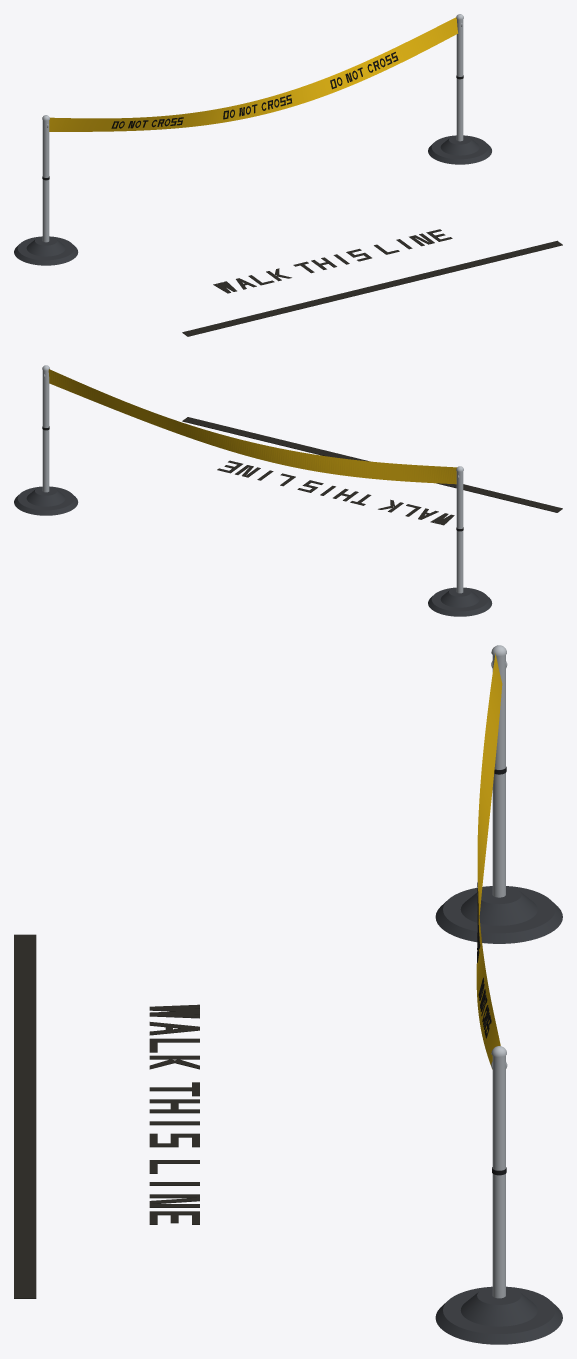
File: do_not_cross_line.glb
3 renders of one model, top to bottom at view 1: azimuth 30°, elevation 25°; view 2: azimuth 150°, elevation 25°; view 3: azimuth 270°, elevation 25°, orthographic. The views are drawn at different scales.
Visible parts, largest first — view 1: barrier_tape, guide_stripe, base_plate (×2), pole (×2), floor_legend, base_taper (×2), printed_legend; view 2: barrier_tape, pole (×2), base_plate (×2), guide_stripe, floor_legend, base_taper (×2); view 3: guide_stripe, base_plate (×2), pole (×2), floor_legend, base_taper (×2), barrier_tape.
Part boxes in pixels (box(x1,y1,x2,y2)): barrier_tape: box(49, 17, 458, 131); guide_stripe: box(182, 240, 562, 336); base_plate (×2): box(14, 135, 491, 265); pole (×2): box(42, 19, 463, 242); floor_legend: box(213, 229, 452, 293); base_taper (×2): box(26, 135, 479, 256); printed_legend: box(111, 52, 398, 128); barrier_tape: box(48, 369, 456, 484); pole (×2): box(42, 370, 463, 593); base_plate (×2): box(14, 486, 492, 616); guide_stripe: box(182, 417, 562, 512); floor_legend: box(217, 460, 454, 525); base_taper (×2): box(26, 486, 479, 607); guide_stripe: box(14, 934, 36, 1298); base_plate (×2): box(435, 886, 562, 1344); pole (×2): box(492, 655, 505, 1298); floor_legend: box(149, 1004, 199, 1224); base_taper (×2): box(460, 886, 537, 1326); barrier_tape: box(476, 653, 502, 1069).
Bounding box in the file's own units: 3.63 × 1.01 × 1.85.
